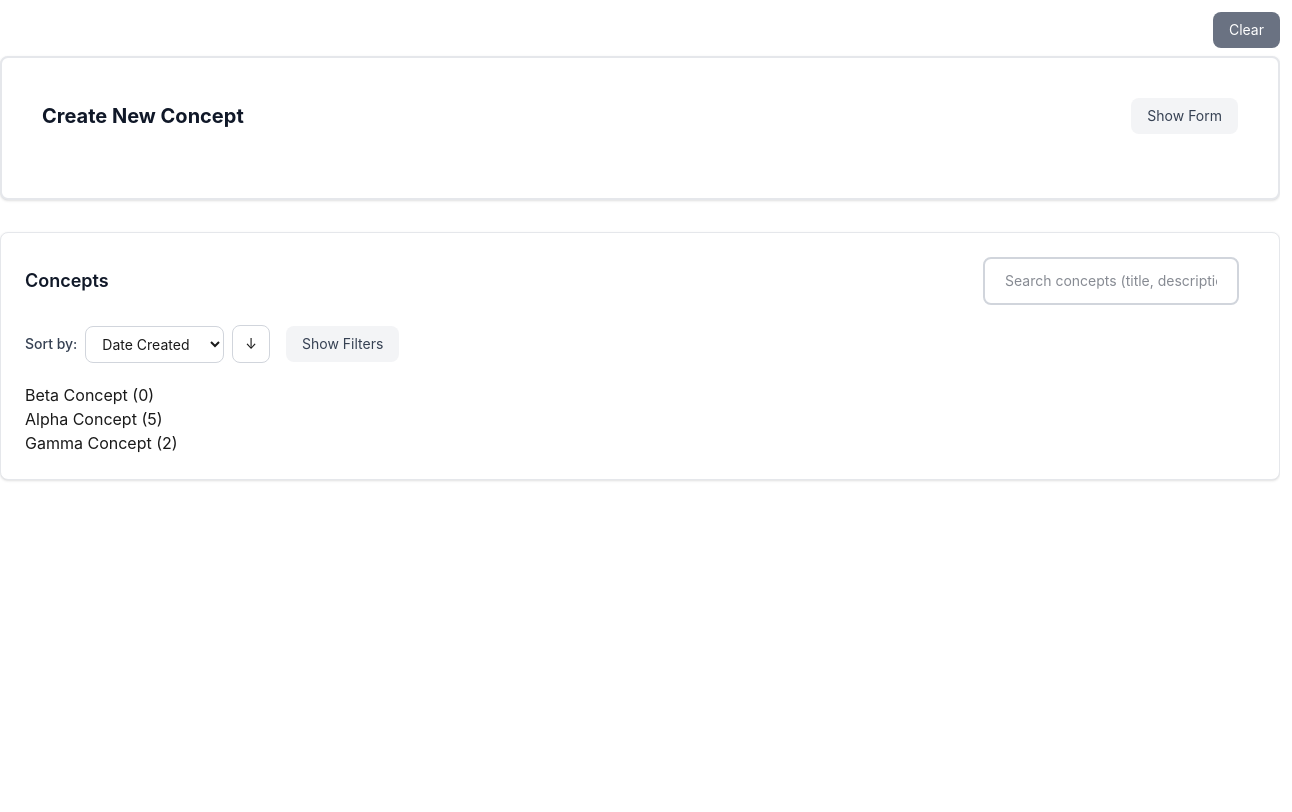
ConceptsTab › should filter by zero links when checkbox is checked
Open filters
Click the button "Show Filters".
click(343, 344)  # box [286, 326, 399, 362]
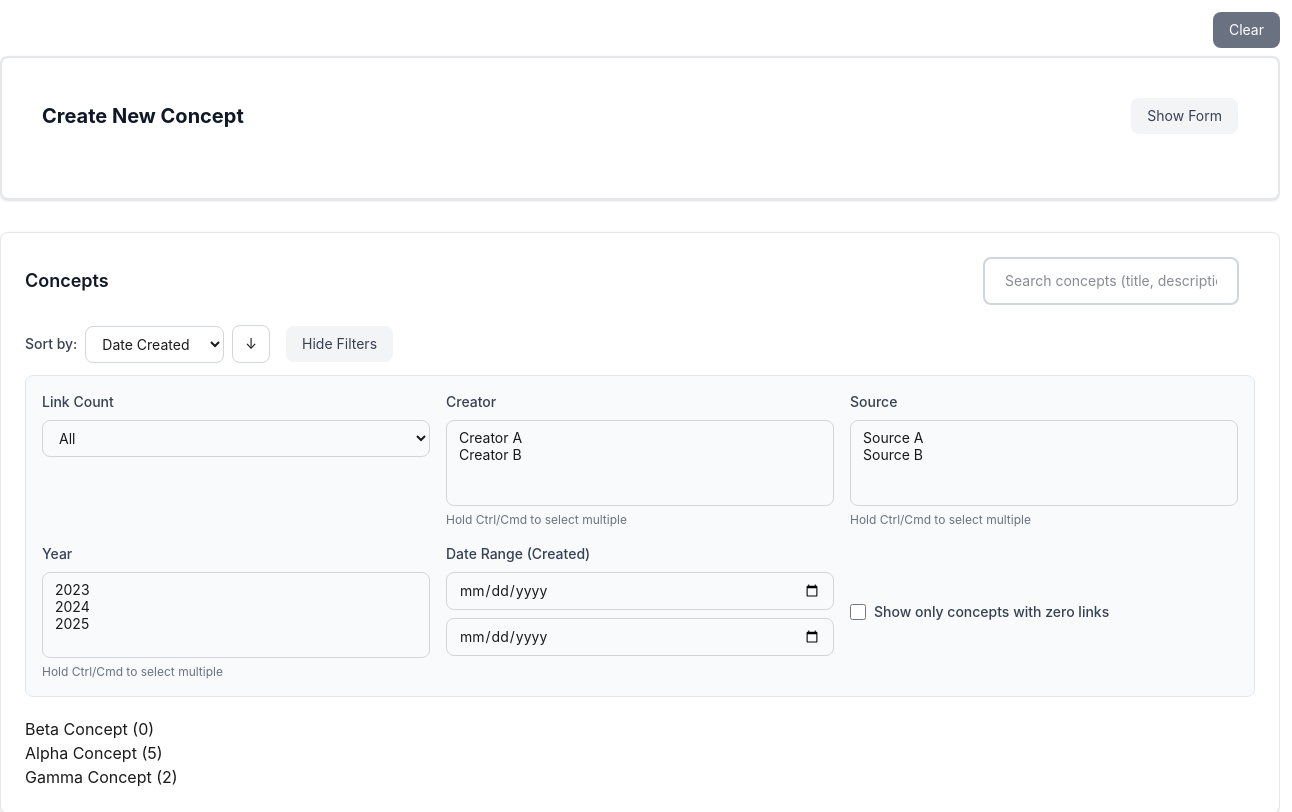
Check zero links only
Click the checkbox labelled "Show only concepts with zero links".
click(858, 612)  # box [850, 604, 866, 620]
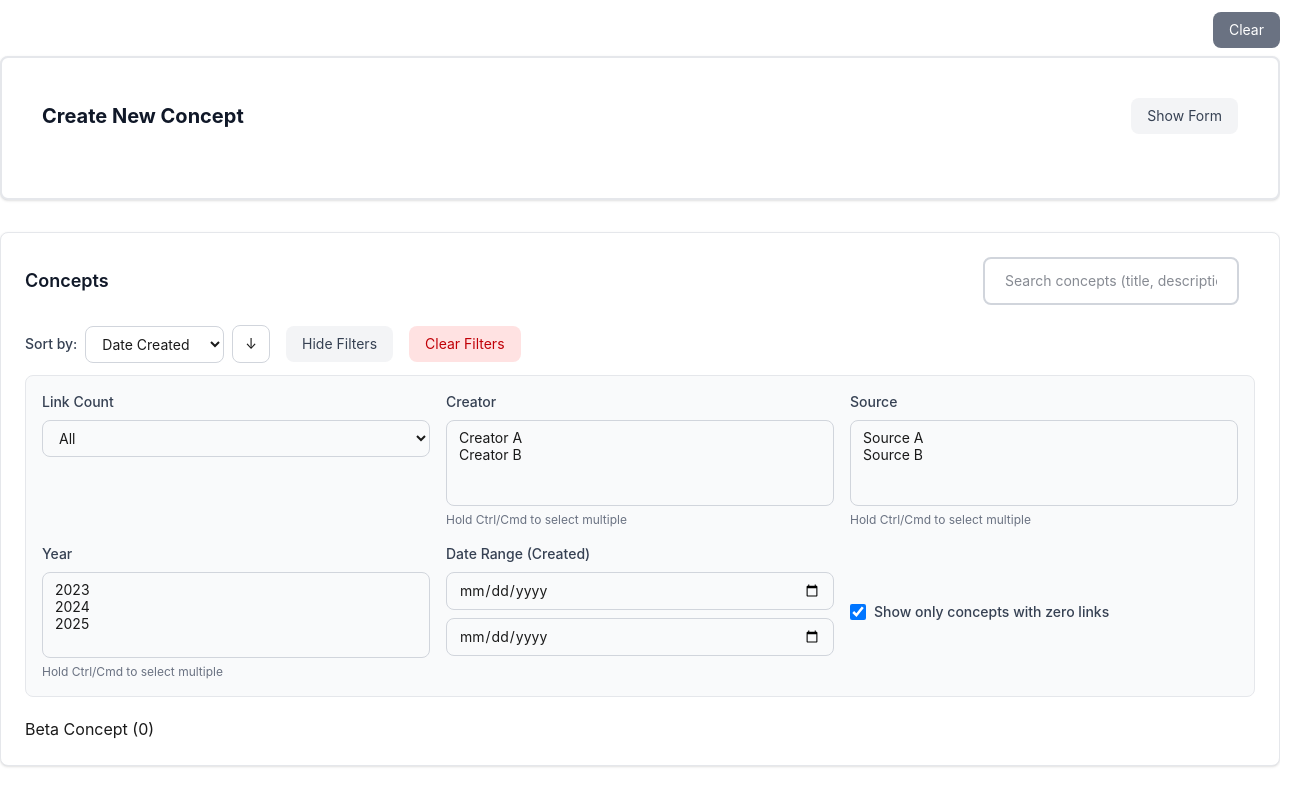
Expected: the text "Beta Concept (0)" is shown, [25, 719, 154, 739]
Expected: the text "Alpha Concept" is gone
